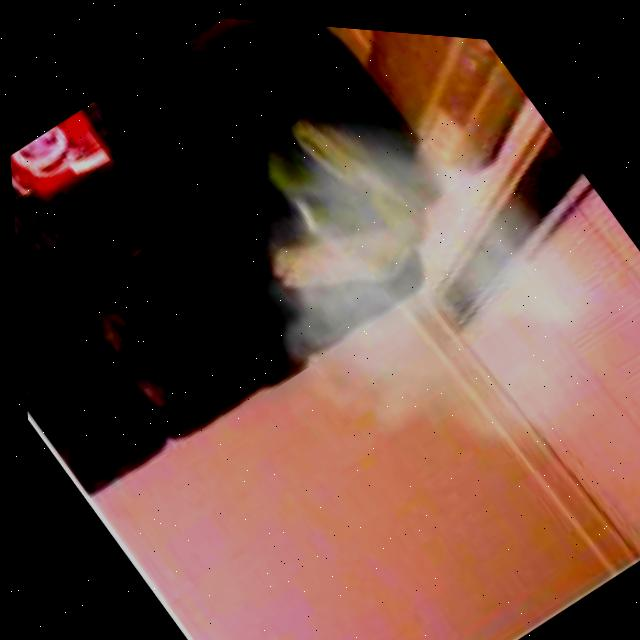Smoke: (107, 7, 640, 590)
